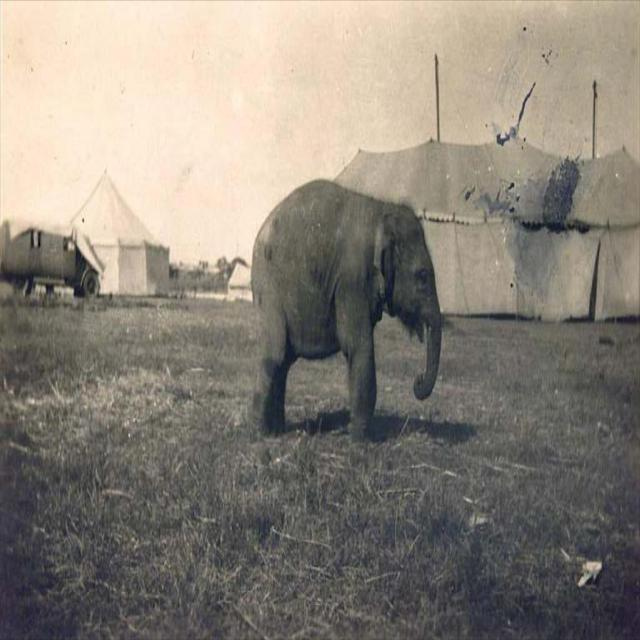Elephant: (248, 179, 442, 442)
